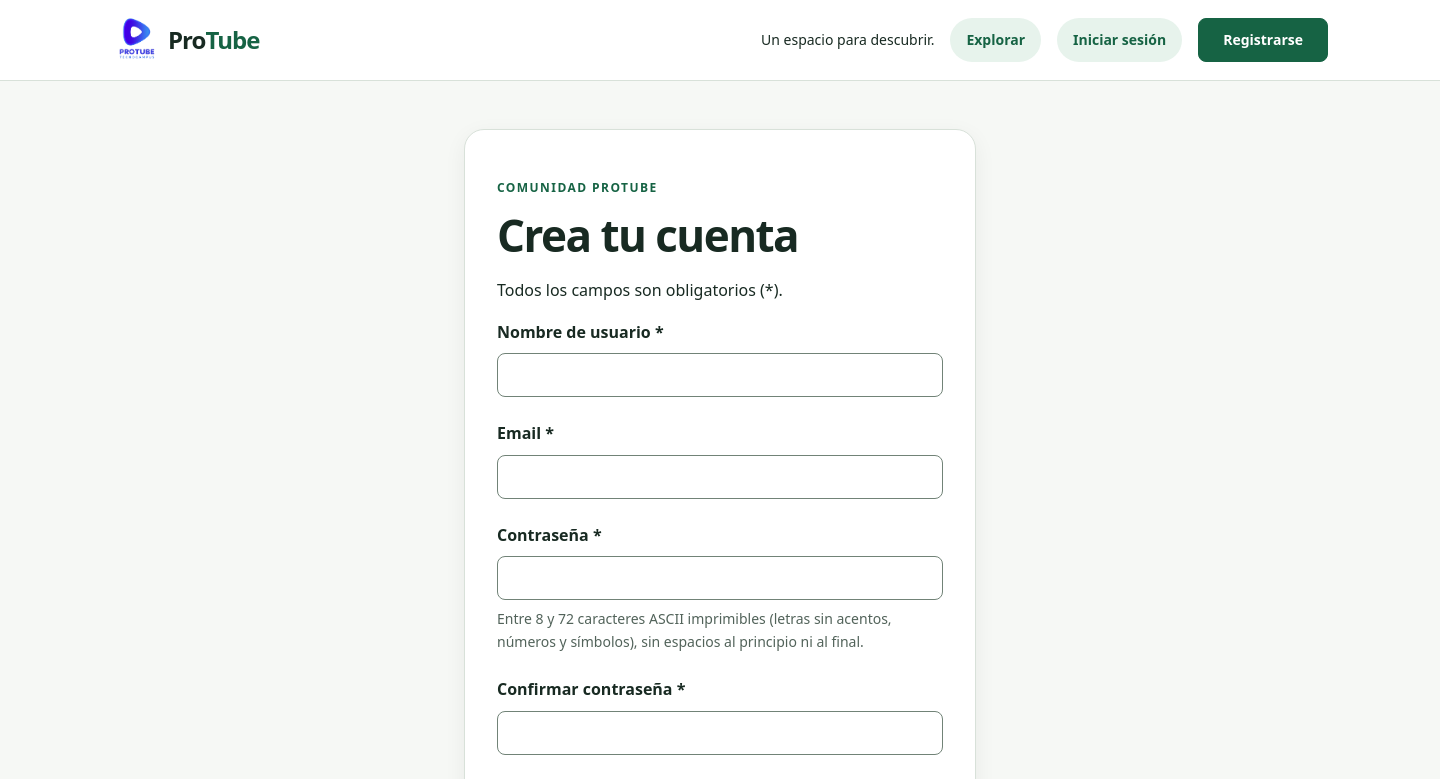
register navigates home and updates header after access
Type "Anna" into the field labelled "Nombre de usuario *" at (720, 375), box [497,353,943,397]
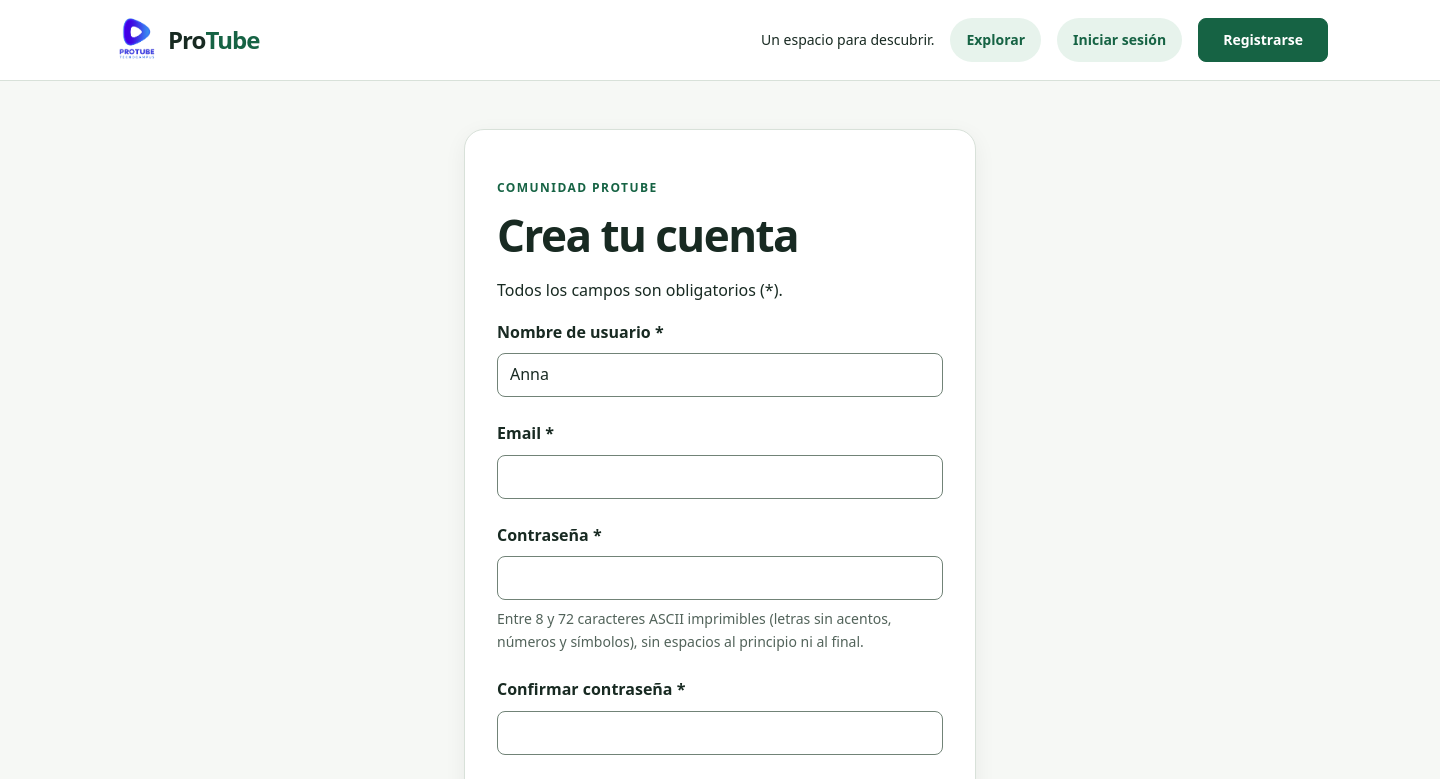
Type "anna@example.com" into the field labelled "Email *" at (720, 477), box [497,455,943,499]
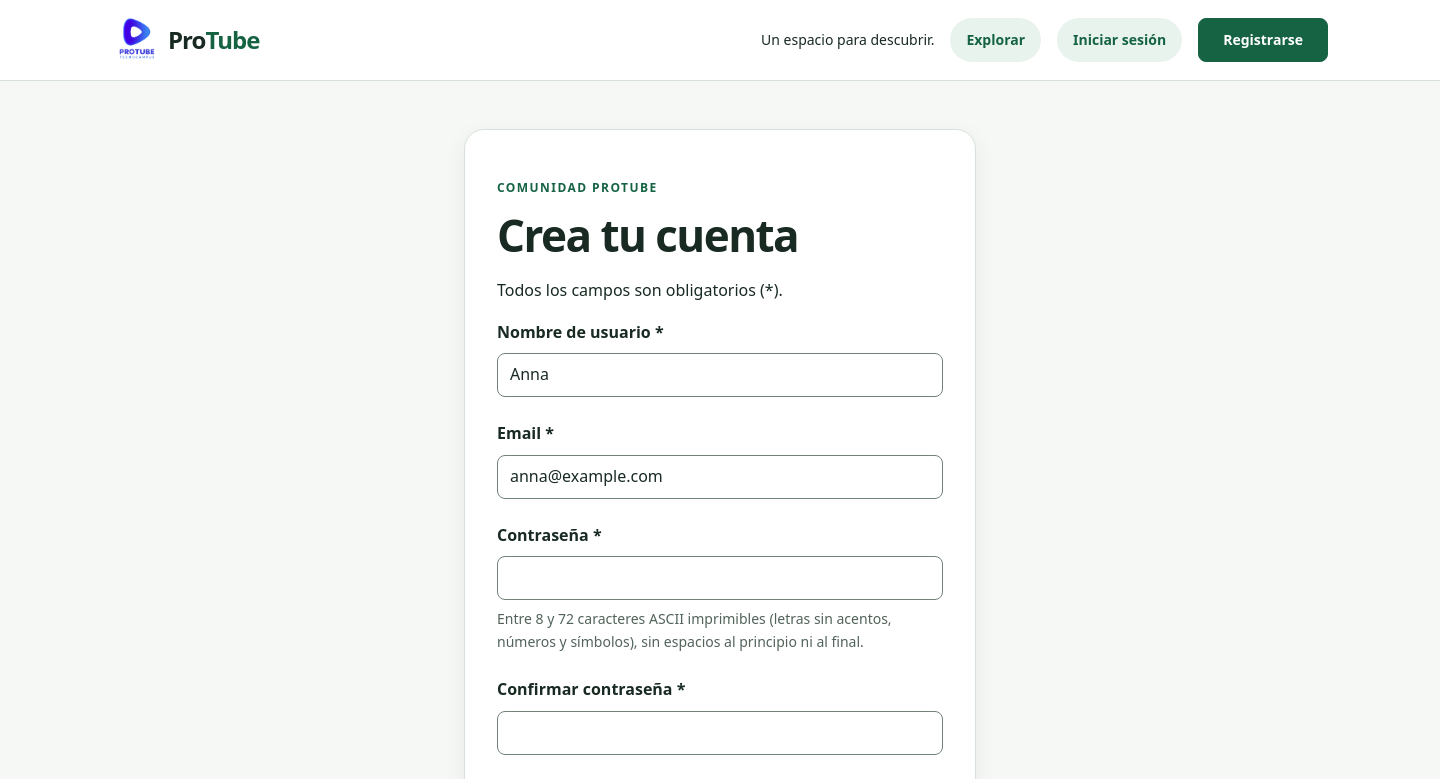
Type "Password1!" into the password field labelled "Contraseña *" at (720, 578), box [497,556,943,600]
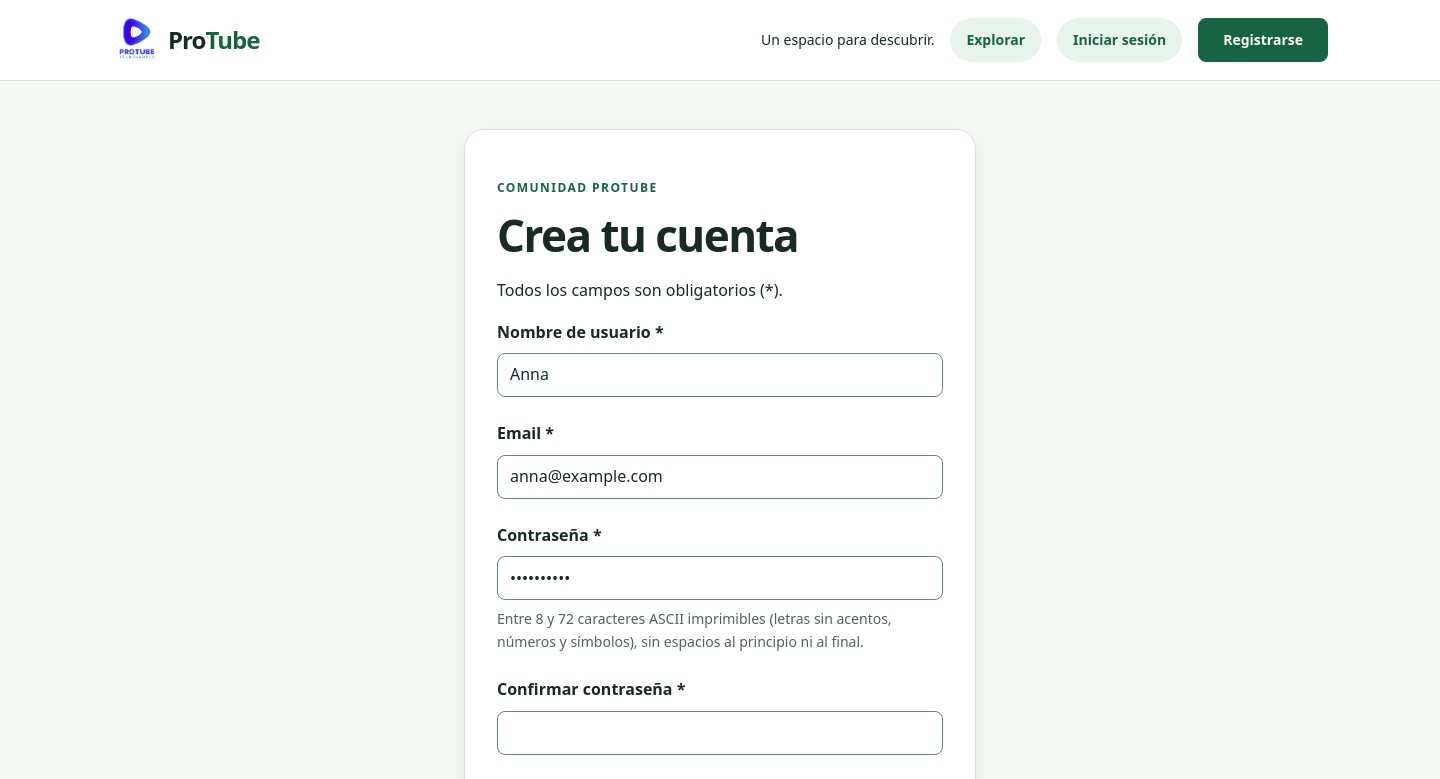
Type "Password1!" into the password field labelled "Confirmar contraseña *" at (720, 733), box [497,711,943,755]
(page scrolled)
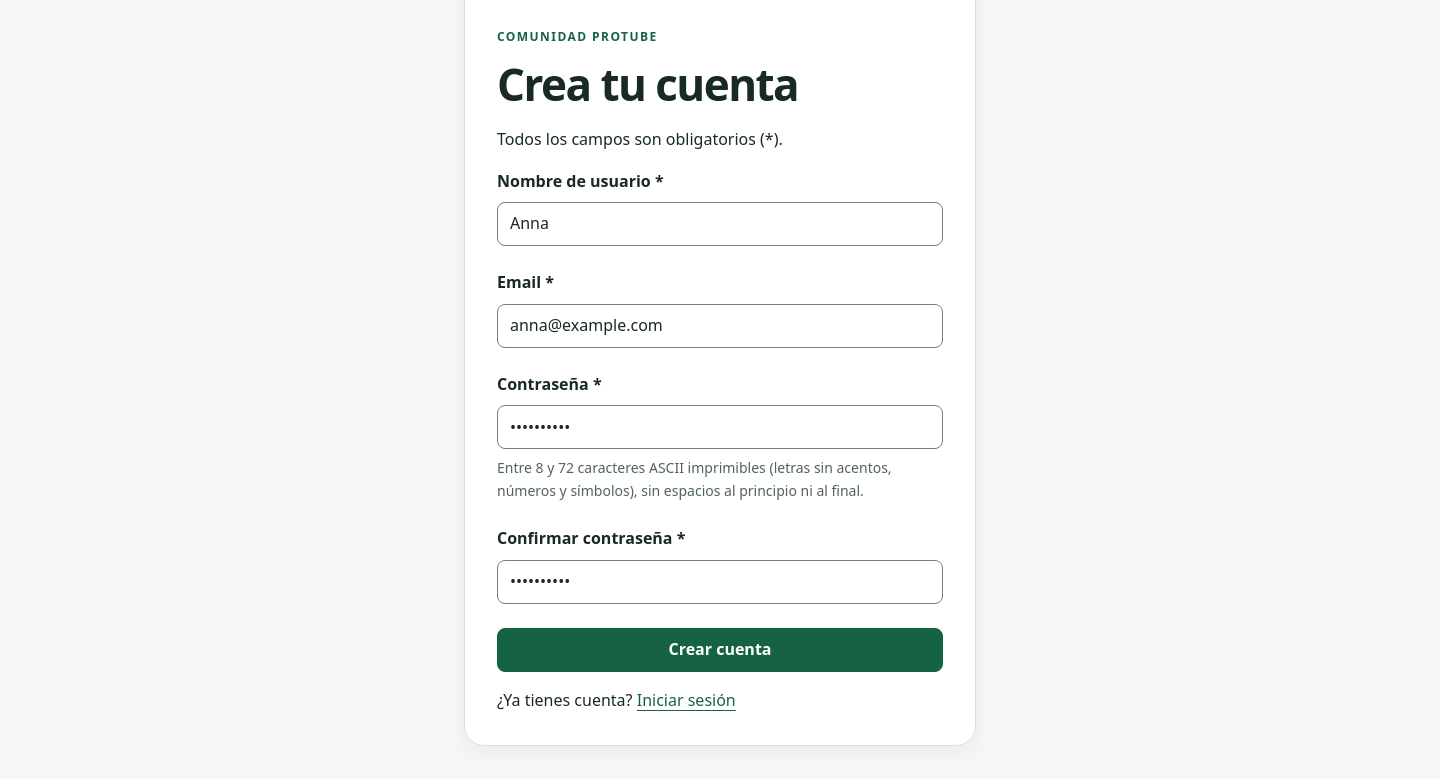
Click the button "Crear cuenta" at (720, 650), box [497,628,943,672]
(page scrolled)
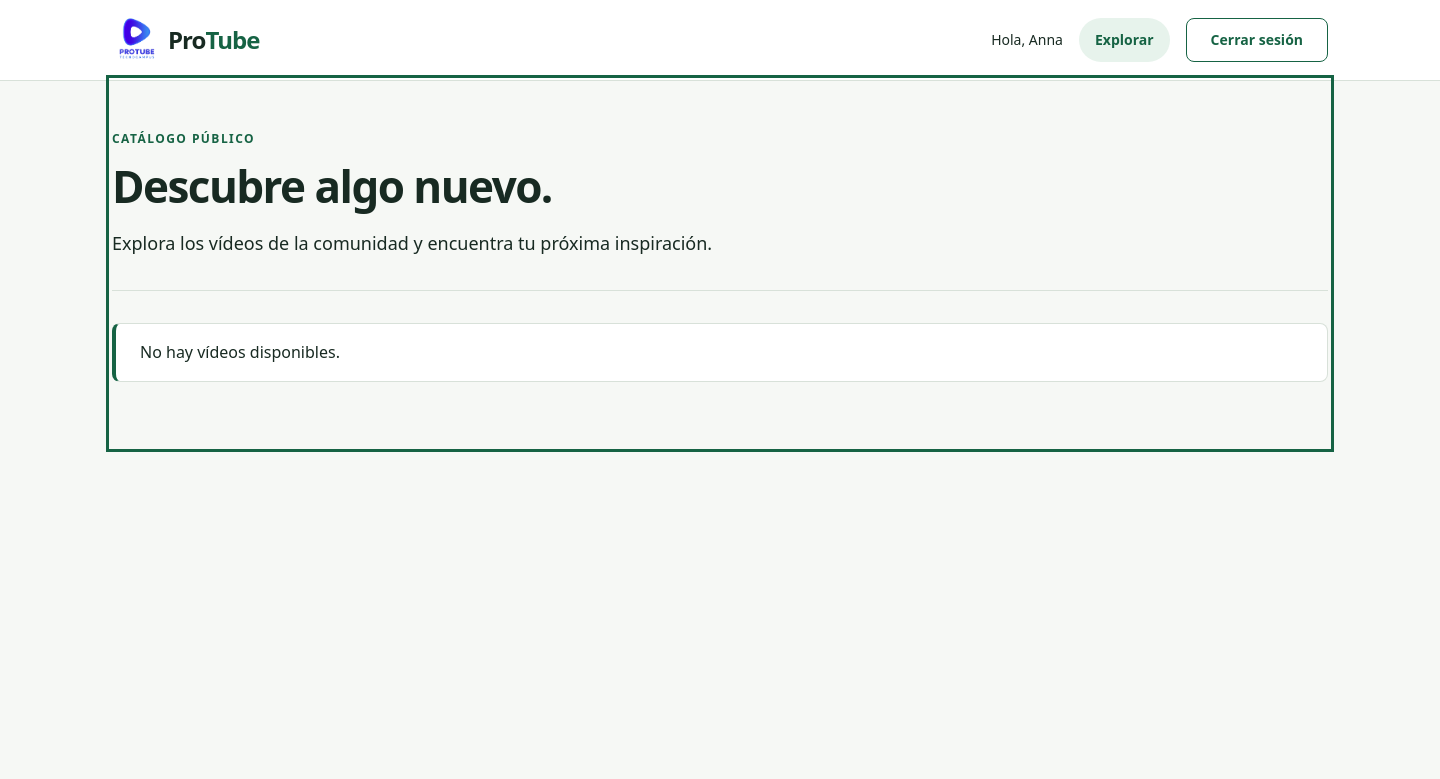
Now the text "Hola, Anna" is shown, box [991,29,1063,51]
Now the heading "Descubre algo nuevo." is shown, box [112,156,552,216]
Now the label labelled "Contraseña *" is gone
